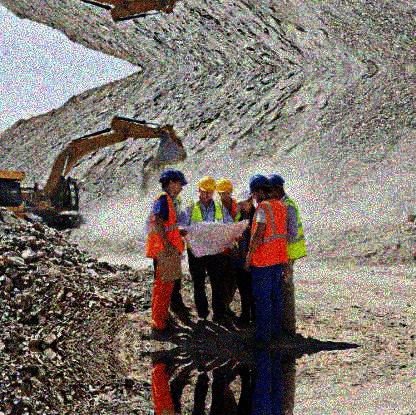helmet: (160, 171, 182, 195), (249, 174, 268, 200), (235, 191, 253, 214), (216, 179, 233, 203), (268, 176, 285, 200), (199, 177, 215, 202)
